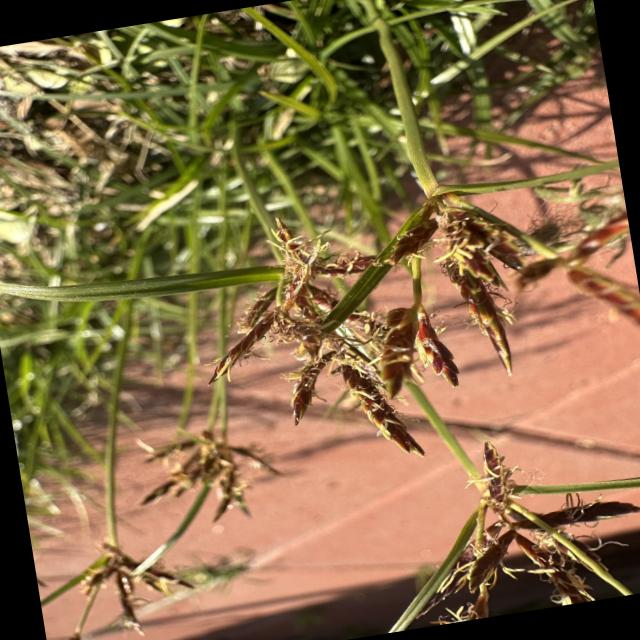cyperus: (180, 170, 640, 640), (173, 163, 640, 494), (352, 426, 640, 634), (32, 528, 190, 640), (154, 410, 282, 528)
